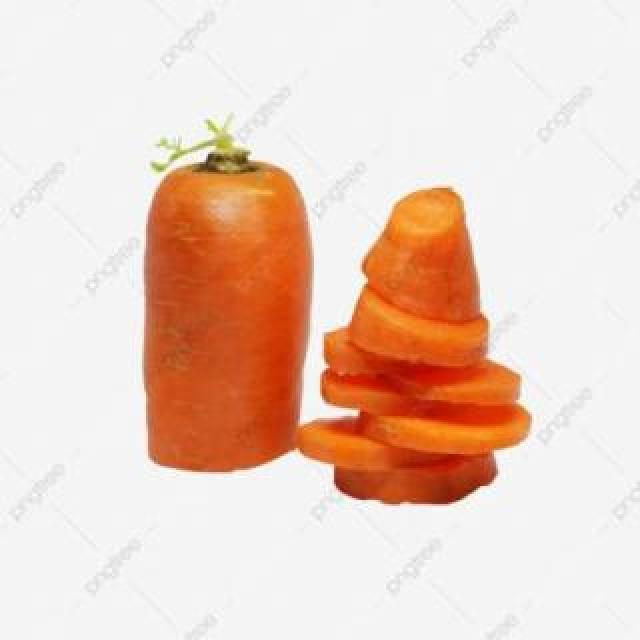carrot: (139, 119, 321, 484)
